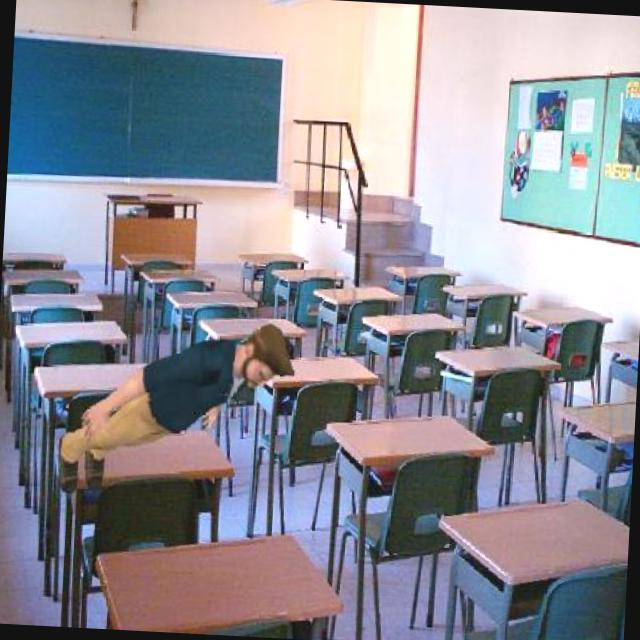Person: (55, 312, 298, 508)
